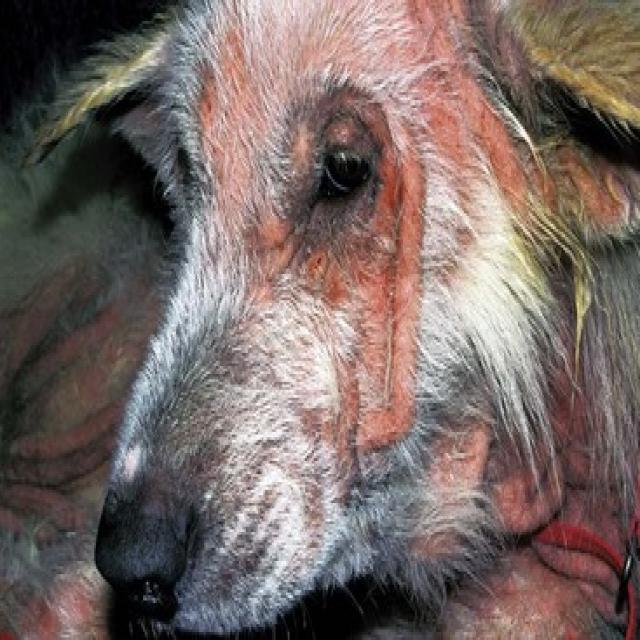fungal infection: (291, 241, 369, 307), (261, 216, 299, 270), (381, 162, 411, 220), (362, 216, 402, 258), (188, 72, 220, 111)
